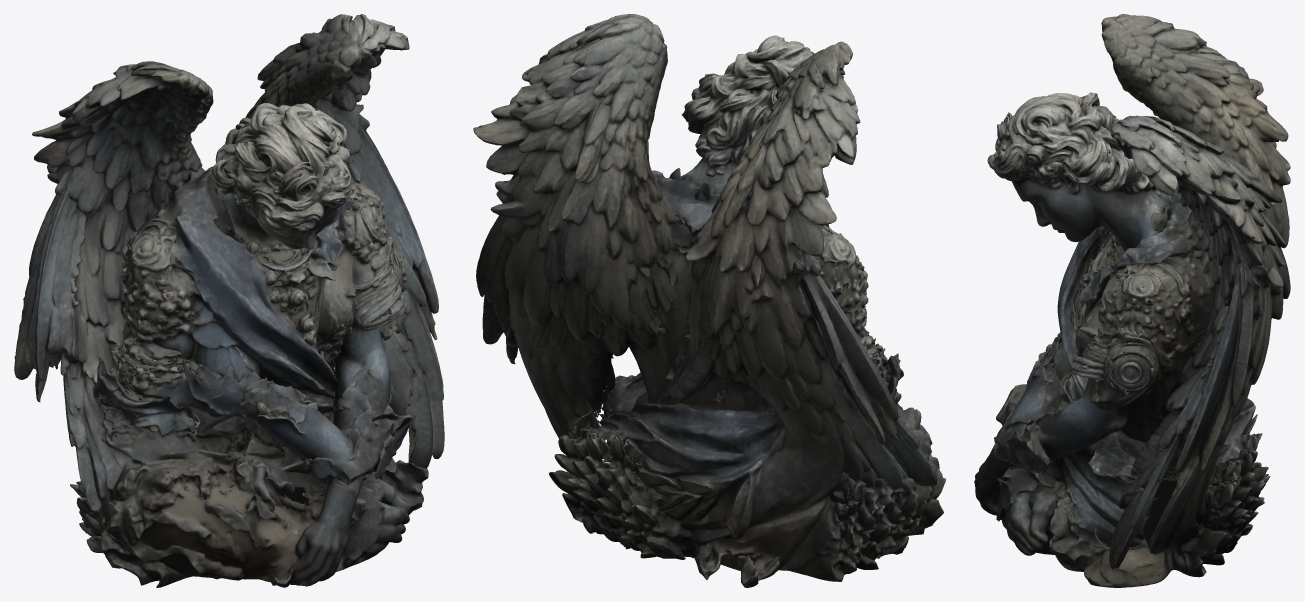
The model's file is sample_2026-08-16T154335.491.glb.
3 views of the same model, side by side, from view 1: azimuth 30°, elevation 25°; view 2: azimuth 150°, elevation 25°; view 3: azimuth 270°, elevation 25° (orthographic). The views are drawn at different scales.
Parts seen in each view (by area): view 1: geometry_0; view 2: geometry_0; view 3: geometry_0.
Boxes of the visible parts, left/top/right/bottom form: geometry_0: left=14, top=14, right=444, bottom=587; geometry_0: left=473, top=14, right=945, bottom=587; geometry_0: left=974, top=14, right=1290, bottom=587.
Size of the model in its own units: 0.8763 by 0.9965 by 0.622.
Materials: 1 (1 with a texture image).
